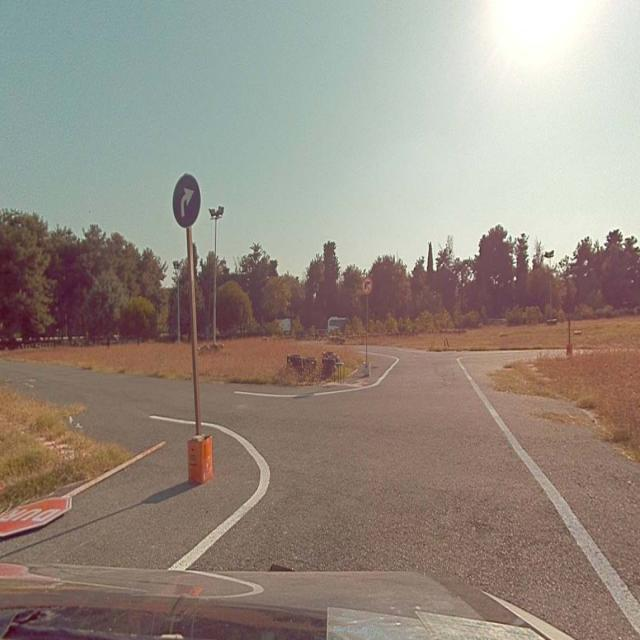sag: (172, 174, 200, 224)
sagadonulmez: (362, 276, 372, 294)
